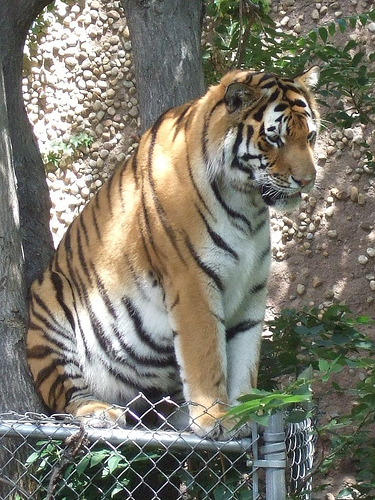Tigre: (41, 30, 324, 442)
